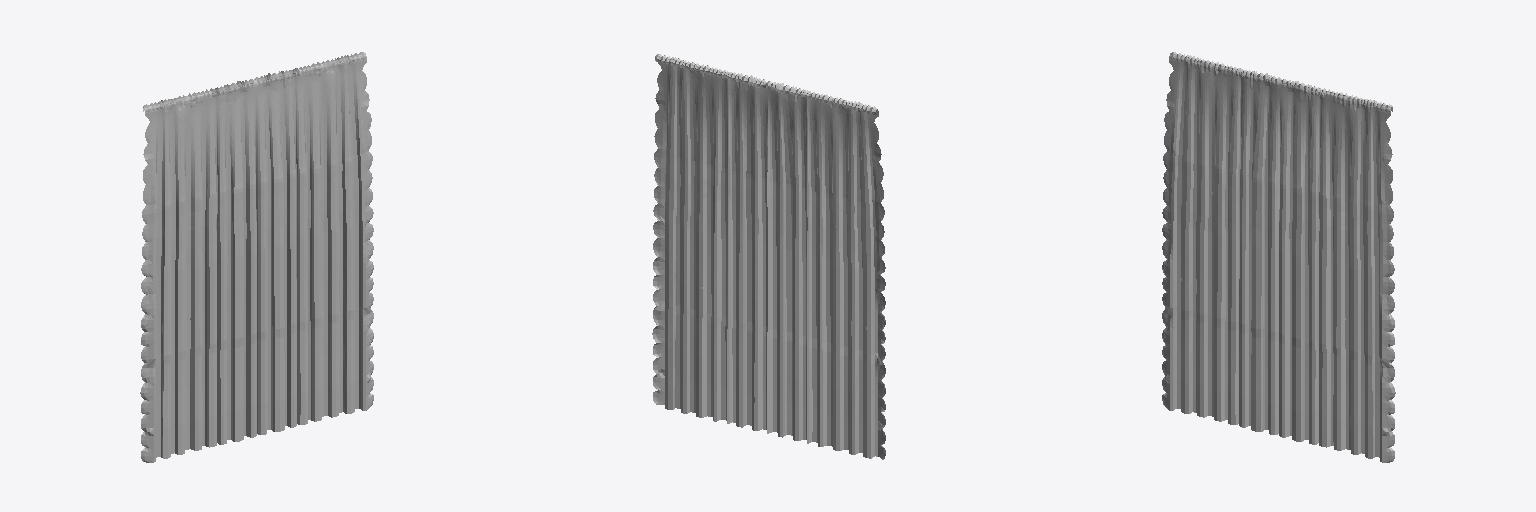
File: curtains.obj
3 views of the same model, side by side, from view 1: azimuth 30°, elevation 25°; view 2: azimuth 150°, elevation 25°; view 3: azimuth 330°, elevation 25° (orthographic).
Visible parts, largest first — view 1: file:Arch60_020_obj00; view 2: file:Arch60_020_obj00; view 3: file:Arch60_020_obj00.
Part boxes in pixels (x1,y1,x2,y2): file:Arch60_020_obj00: (140,52,373,462); file:Arch60_020_obj00: (652,54,885,459); file:Arch60_020_obj00: (1162,52,1395,462).
Bounding box in the file's own units: 61.17 × 88.77 × 3.87.